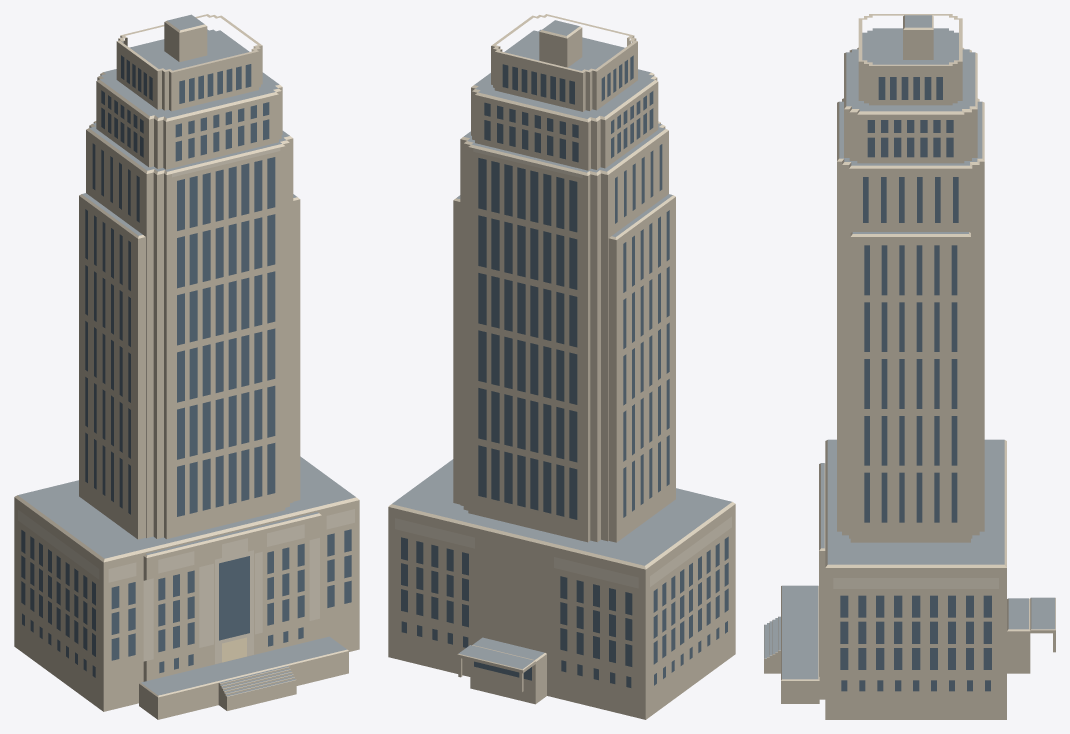
Rendered from kc-city-hall.glb.
The picture shows the model from 3 angles, left to right: view 1: azimuth 30°, elevation 25°; view 2: azimuth 150°, elevation 25°; view 3: azimuth 270°, elevation 25°; orthographic projection.
Parts seen in each view (by area): view 1: Kansas City City Hall; view 2: Kansas City City Hall; view 3: Kansas City City Hall.
Part boxes in pixels (box(x1,y1,x2,y2)): Kansas City City Hall: box(14, 14, 359, 719); Kansas City City Hall: box(388, 14, 735, 719); Kansas City City Hall: box(764, 14, 1055, 719).
Size of the model in its own units: 59.1 by 138 by 57.3.
